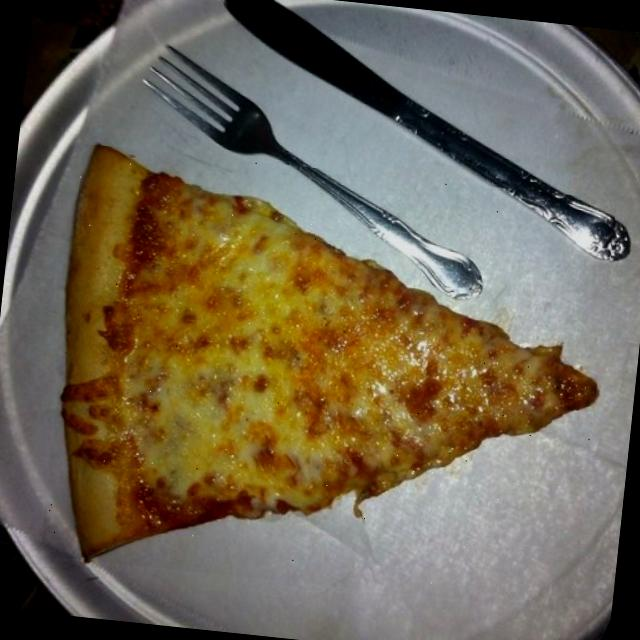pizza: (60, 146, 595, 559)
